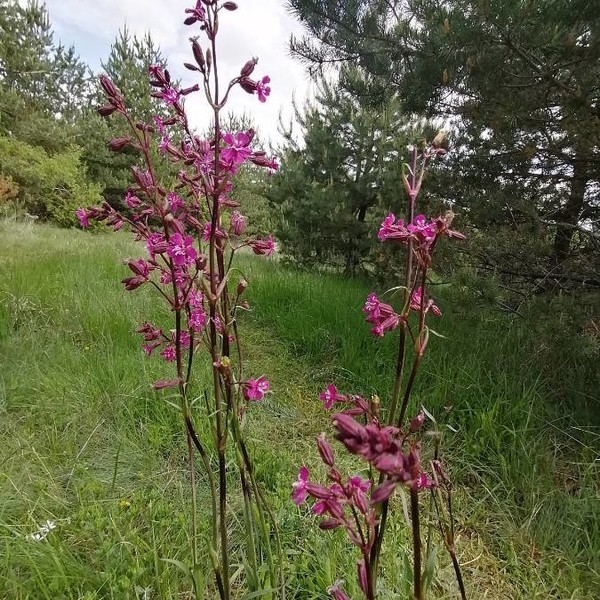obstacle: (90, 37, 286, 574), (323, 176, 429, 599), (466, 355, 571, 585)
